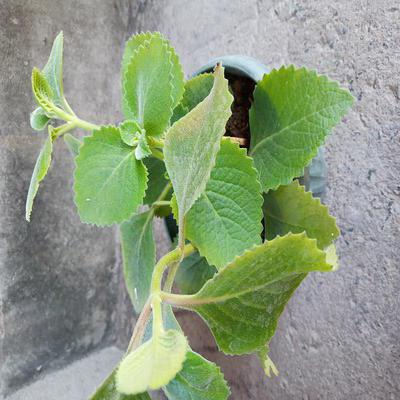Oregano: (23, 57, 361, 352)
